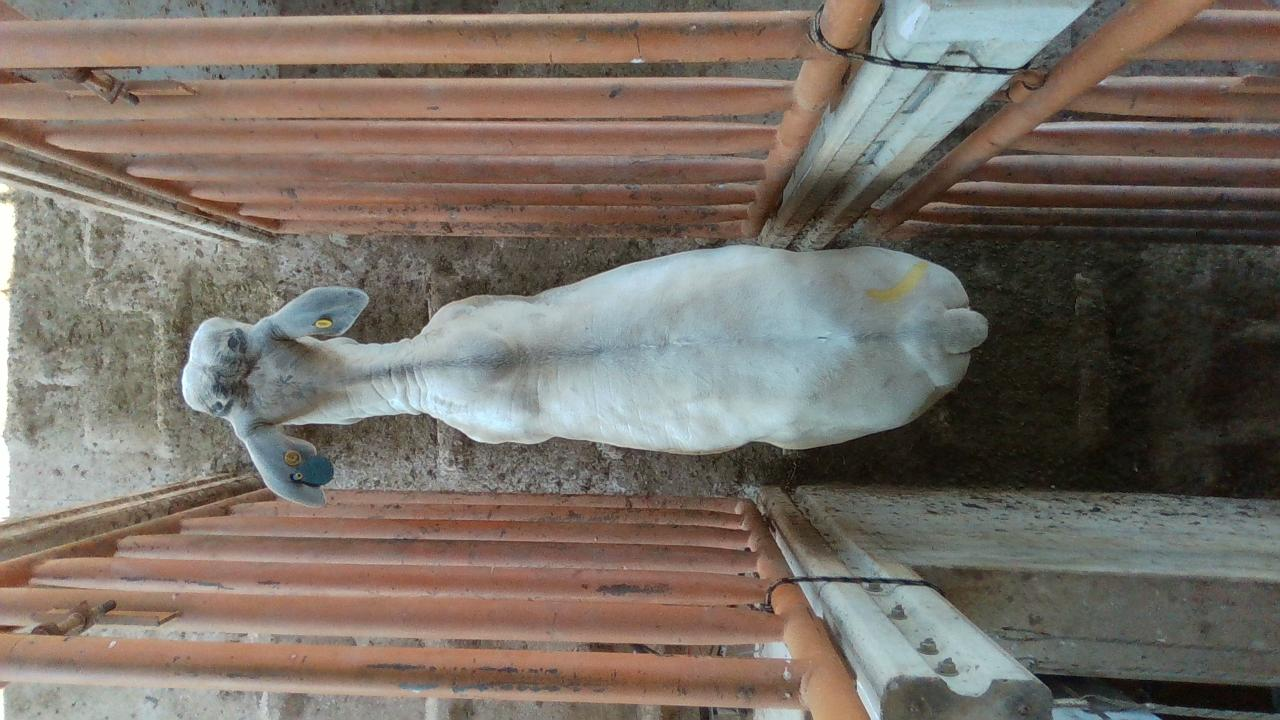cattle: (180, 241, 989, 506)
